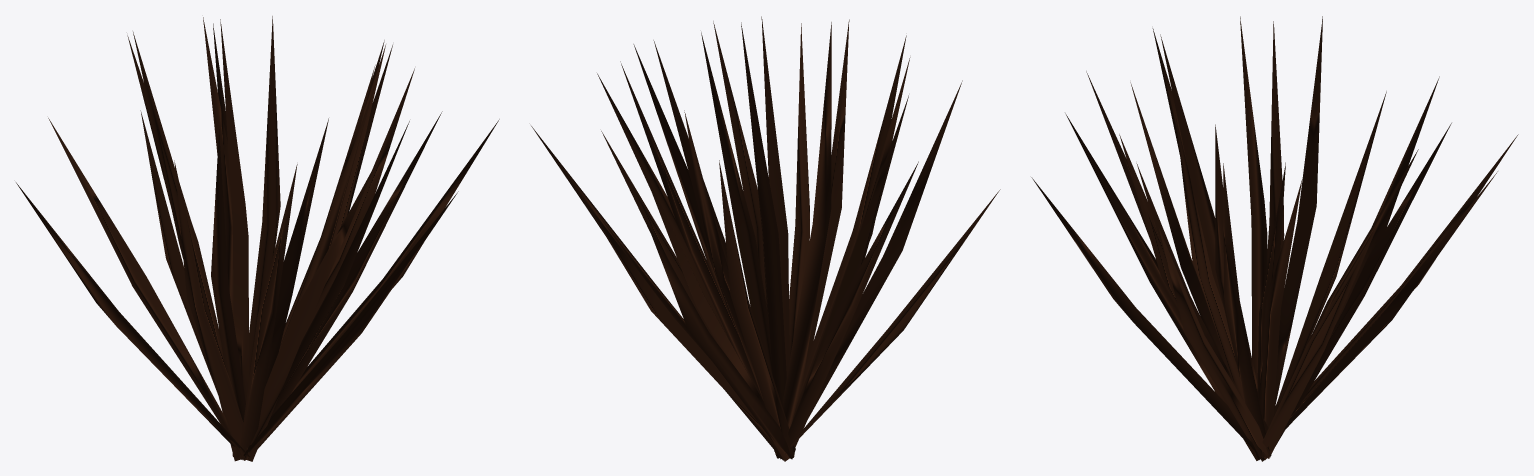
The model's file is DryBush_LOD1.obj.
The picture shows the model from 3 angles, left to right: view 1: azimuth 30°, elevation 25°; view 2: azimuth 150°, elevation 25°; view 3: azimuth 270°, elevation 25°; orthographic projection.
Visible parts, largest first — view 1: DryBush_LOD1; view 2: DryBush_LOD1; view 3: DryBush_LOD1.
Boxes of the visible parts, x1,y1,x2,y2 form: DryBush_LOD1: (16,16,499,461); DryBush_LOD1: (531,16,1000,461); DryBush_LOD1: (1031,16,1518,461).
Bounding box in the file's own units: 92.67 × 80.17 × 91.58.
